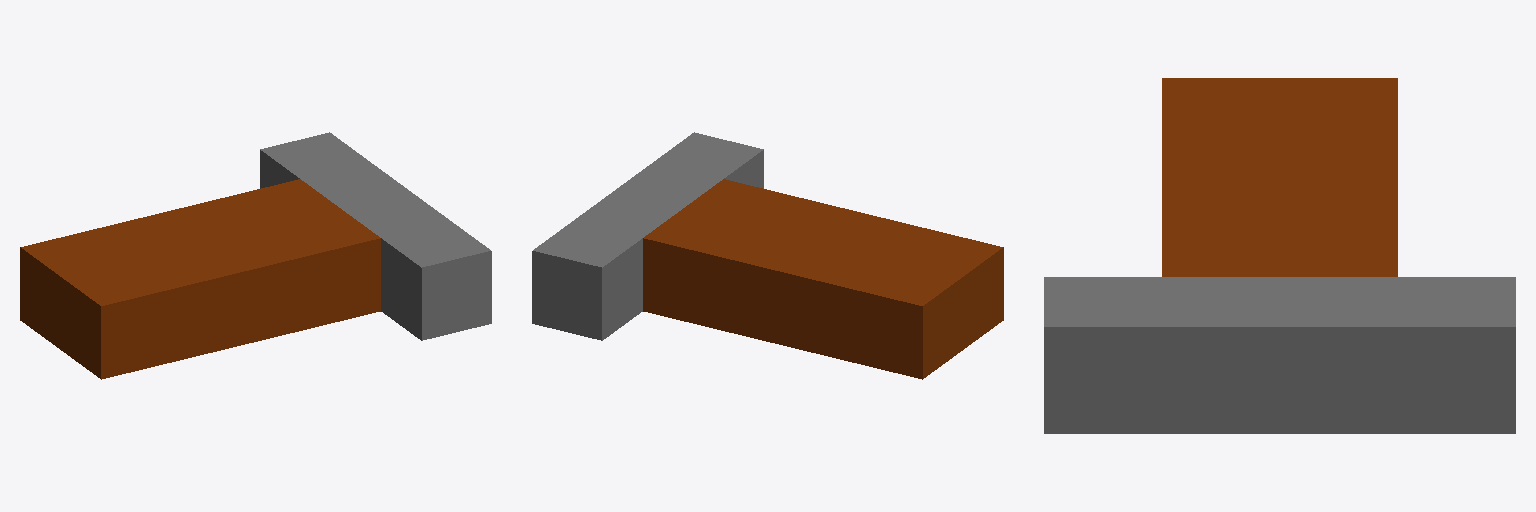
URDF robot description (hammer):
<?xml version="1.0"?>
<robot name="hammer">

  <link name="hammer">
    <!-- Handle -->
    <visual>
      <origin xyz="0 0 0" rpy="0 0 0"/>
      <geometry>
        <box size="0.10 0.05 0.025"/>
      </geometry>
      <material name="brown">
        <color rgba="0.55 0.27 0.07 1.0"/>
      </material>
    </visual>
    <collision>
      <origin xyz="0 0 0" rpy="0 0 0"/>
      <geometry>
        <box size="0.10 0.05 0.025"/>
      </geometry>
    </collision>

    <!-- Head -->
    <visual>
      <origin xyz="0.0625 0 0" rpy="0 0 0"/>
      <geometry>
        <box size="0.025 0.1 0.025"/>
      </geometry>
      <material name="gray">
        <color rgba="0.5 0.5 0.5 1.0"/>
      </material>
    </visual>
    <collision>
      <origin xyz="0.0625 0 0" rpy="0 0 0"/>
      <geometry>
        <box size="0.025 0.1 0.025"/>
      </geometry>
    </collision>

    <inertial>
      <mass value="0.3"/>
      <inertia ixx="0.0003" iyy="0.0003" izz="0.0003" ixy="0" ixz="0" iyz="0"/>
    </inertial>
  </link>

</robot>

--- What the picture shows (computed from the rendered views, not written in the file) ---
3 views of the same robot in one strip: view 1: azimuth 30°, elevation 25°; view 2: azimuth 150°, elevation 25°; view 3: azimuth 270°, elevation 25° (orthographic).
Robot: hammer — 1 links, 0 joints (none); root link hammer; default pose: every joint at zero.
Visible links, largest first — view 1: hammer; view 2: hammer; view 3: hammer.
Boxes of the visible links, left/top/right/bottom form: hammer: left=20, top=132, right=491, bottom=379; hammer: left=532, top=132, right=1003, bottom=379; hammer: left=1044, top=78, right=1515, bottom=433.
Size in the robot's own frame: 0.125 by 0.1 by 0.025 metres.
Geometry: primitives only (box / cylinder / sphere), no mesh files.
